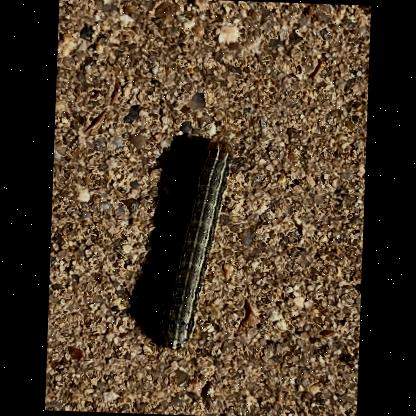Fall Armyworm Larvae: (154, 136, 237, 355)
